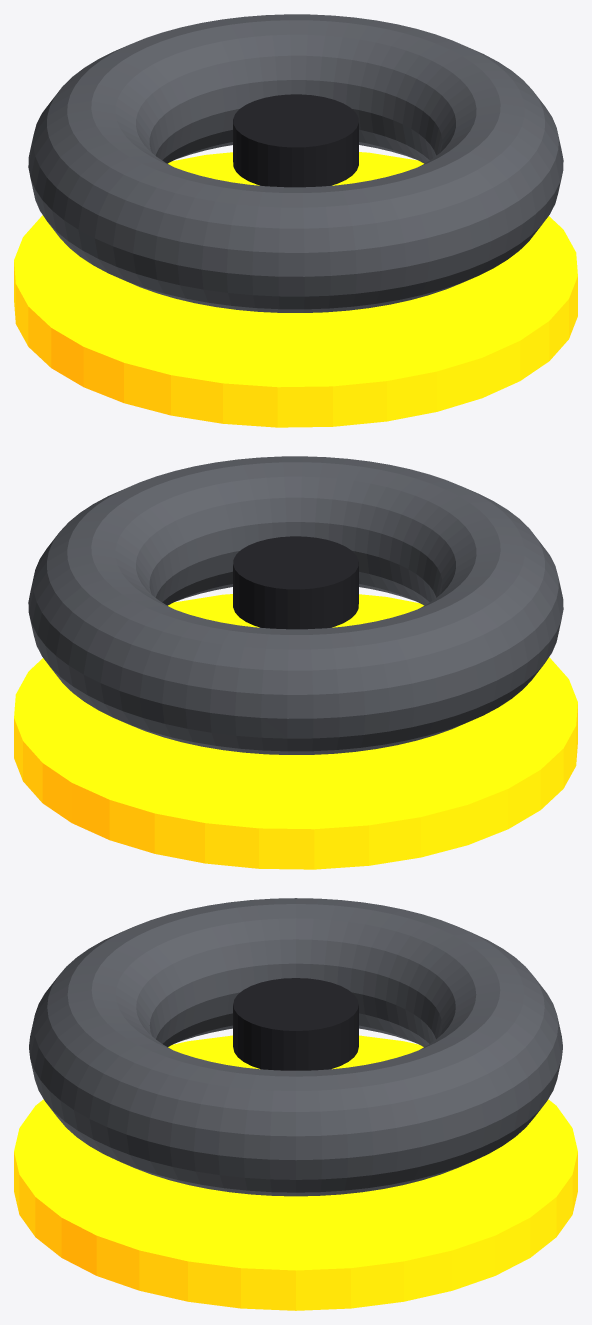
Rendered from fitness_weight_plate.glb.
3 views of the same model, one above another, from view 1: azimuth 30°, elevation 25°; view 2: azimuth 150°, elevation 25°; view 3: azimuth 270°, elevation 25° (orthographic).
Parts seen in each view (by area): view 1: 02_11_Popular_Fitness_Weight_Plate_part_01, 02_11_Popular_Fitness_Weight_Plate_ROOT_base, 02_11_Popular_Fitness_Weight_Plate_part_02; view 2: 02_11_Popular_Fitness_Weight_Plate_part_01, 02_11_Popular_Fitness_Weight_Plate_ROOT_base, 02_11_Popular_Fitness_Weight_Plate_part_02; view 3: 02_11_Popular_Fitness_Weight_Plate_part_01, 02_11_Popular_Fitness_Weight_Plate_ROOT_base, 02_11_Popular_Fitness_Weight_Plate_part_02.
Boxes of the visible parts, x1,y1,x2,y2 form: 02_11_Popular_Fitness_Weight_Plate_part_01: [28, 14, 563, 312]; 02_11_Popular_Fitness_Weight_Plate_ROOT_base: [14, 152, 577, 427]; 02_11_Popular_Fitness_Weight_Plate_part_02: [233, 94, 358, 187]; 02_11_Popular_Fitness_Weight_Plate_part_01: [28, 456, 563, 754]; 02_11_Popular_Fitness_Weight_Plate_ROOT_base: [14, 594, 577, 869]; 02_11_Popular_Fitness_Weight_Plate_part_02: [233, 536, 358, 629]; 02_11_Popular_Fitness_Weight_Plate_part_01: [29, 898, 562, 1196]; 02_11_Popular_Fitness_Weight_Plate_ROOT_base: [14, 1035, 577, 1310]; 02_11_Popular_Fitness_Weight_Plate_part_02: [233, 978, 358, 1070].
Size of the model in its own units: 0.76 by 0.2994 by 0.76.
